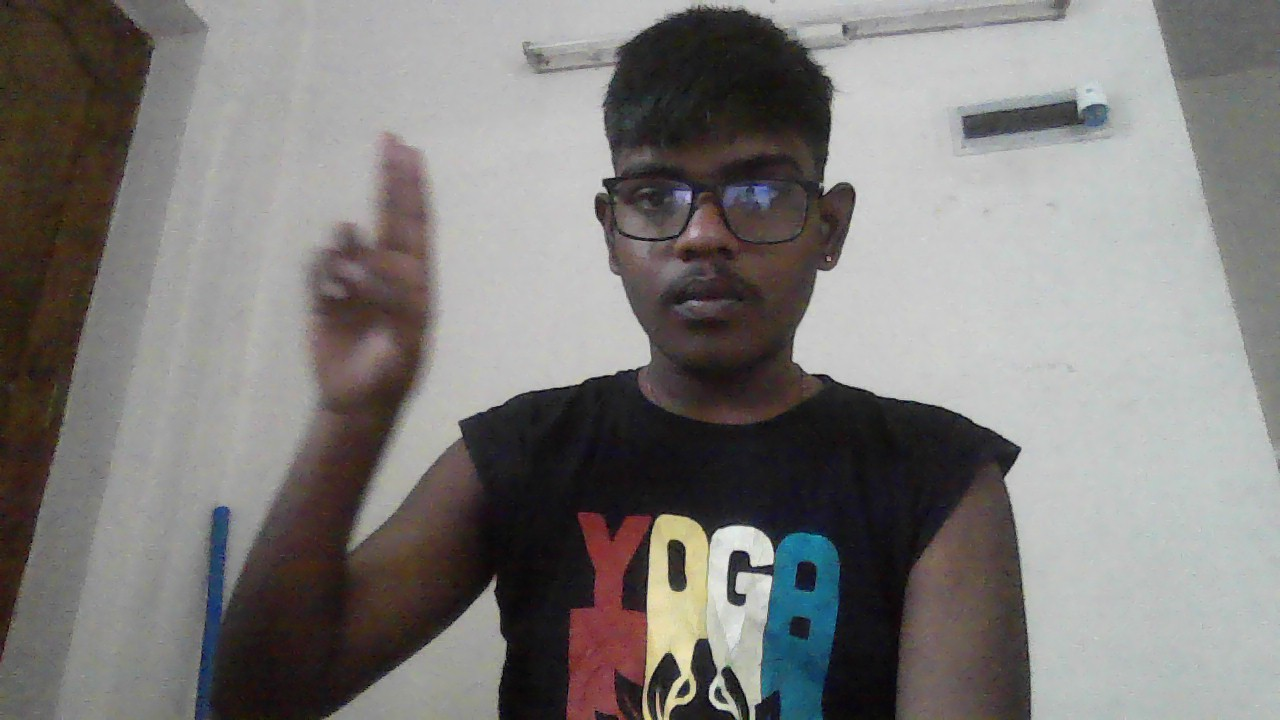U: (306, 133, 433, 426)
